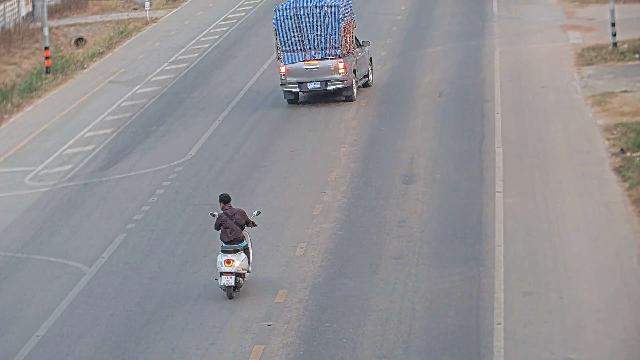motorcycle: (209, 210, 256, 297)
pickup-truck: (271, 0, 374, 104)
